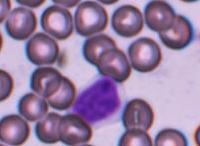L: (68, 74, 123, 129)
